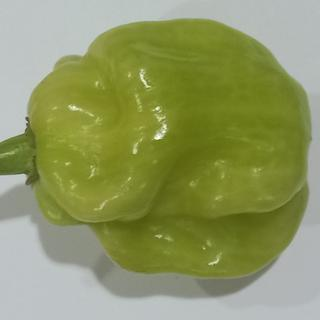Grade-A: (13, 14, 317, 281)
